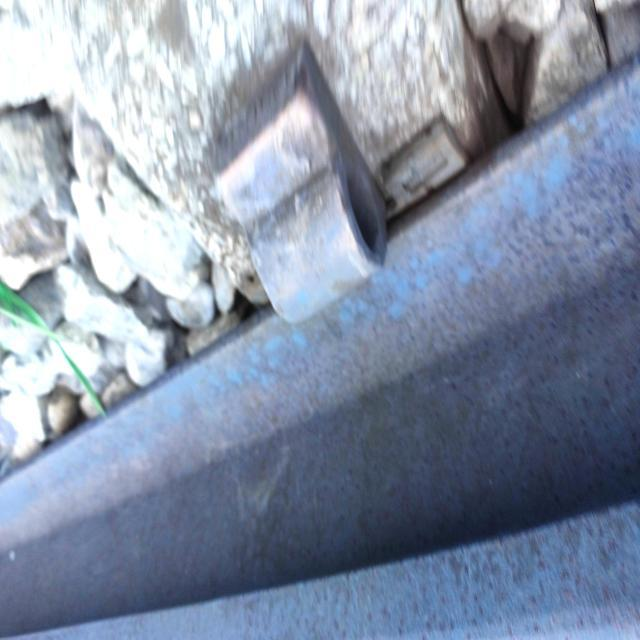Missing Fastener: (194, 37, 483, 366)
